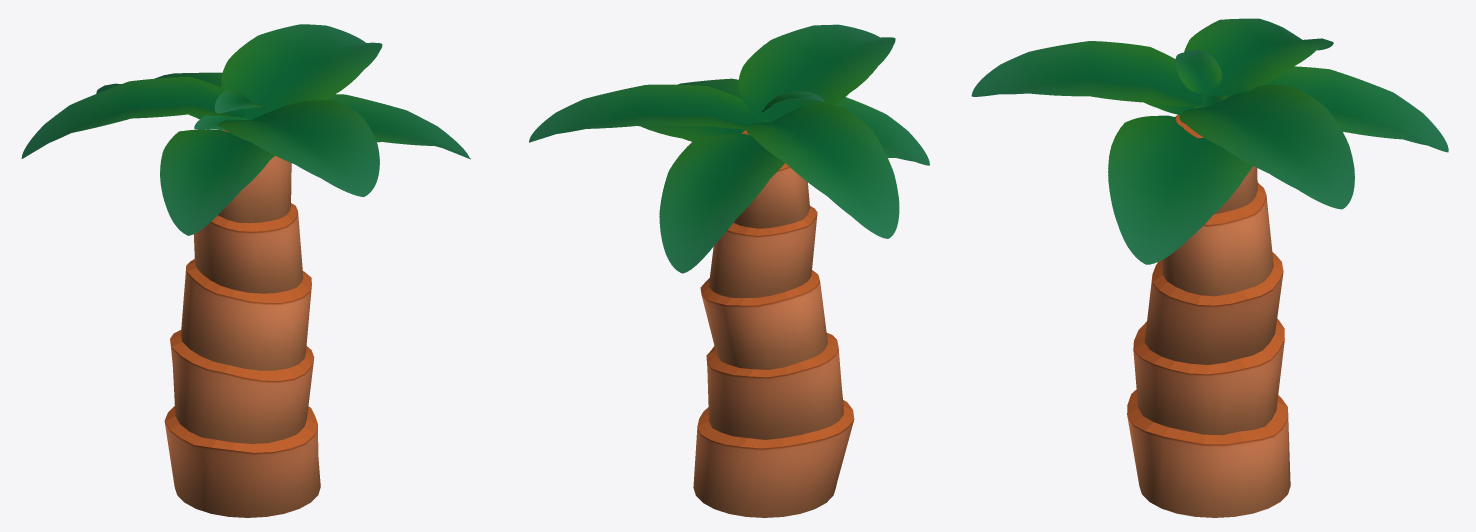
Rendered from Tree_1a.fbx.
3 renders of one model, left to right at view 1: azimuth 30°, elevation 25°; view 2: azimuth 150°, elevation 25°; view 3: azimuth 270°, elevation 25°, orthographic. The views are drawn at different scales.
Visible parts, largest first — view 1: Tree_1a; view 2: Tree_1a; view 3: Tree_1a.
Part boxes in pixels (x1,y1,x2,y2): Tree_1a: (21,24,470,517); Tree_1a: (529,24,929,517); Tree_1a: (971,18,1448,517).
Bounding box in the file's own units: 67.03 × 62.04 × 66.36.
